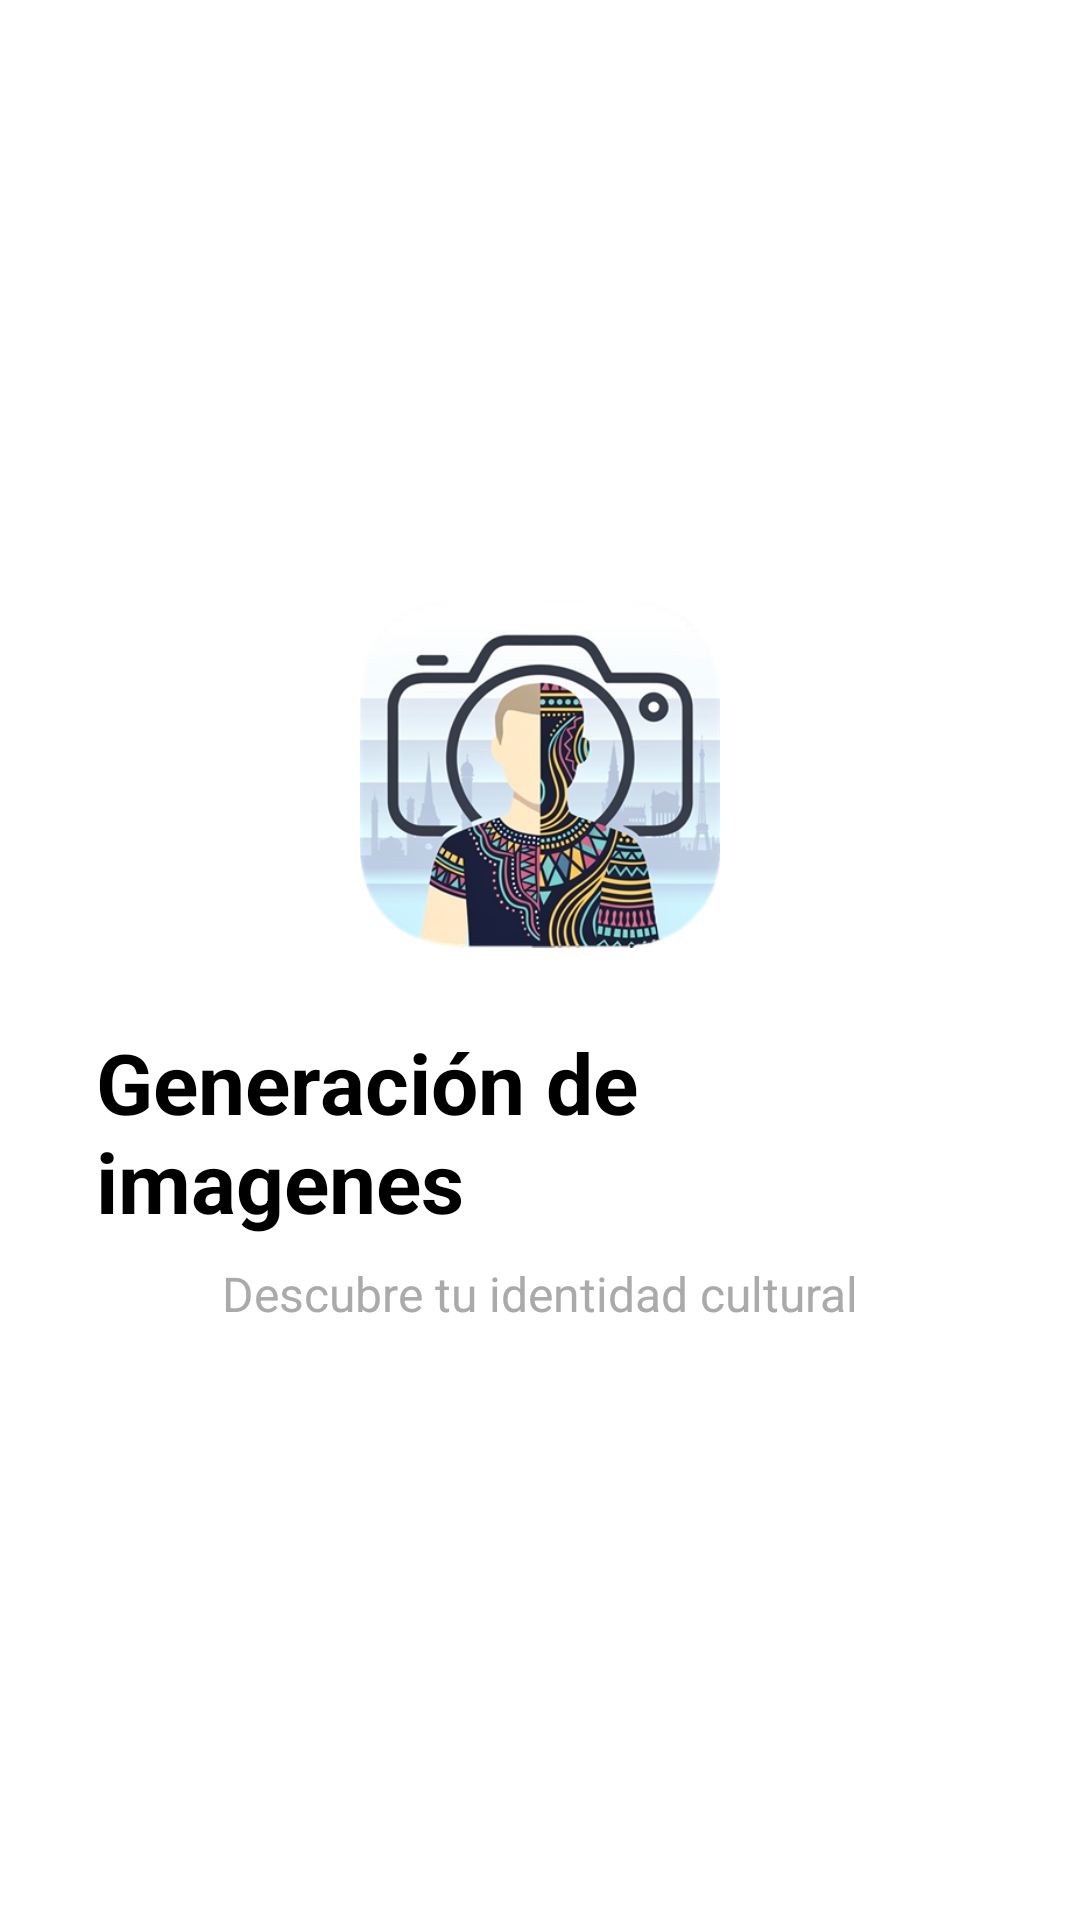

Icons on this 1080 × 1920 Android screen, each with its box as bbox=[x1, y1, x2, y2]:
Ícono de la aplicación: bbox=[360, 634, 720, 948]
